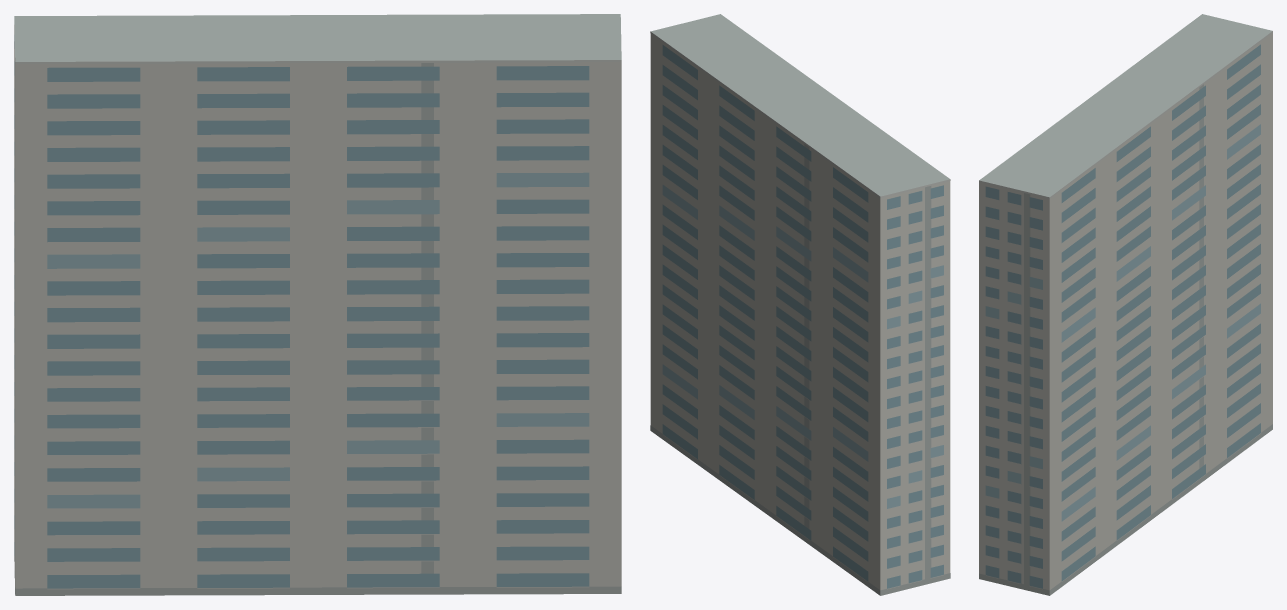
The model's file is residential-1bc73dc4-6123-48f5-a54a-faabca672b3d.glb.
3 renders of one model, left to right at view 1: azimuth 30°, elevation 25°; view 2: azimuth 150°, elevation 25°; view 3: azimuth 270°, elevation 25°, orthographic. The views are drawn at different scales.
Parts seen in each view (by area): view 1: residential-1bc73dc4-6123-48f5-a54a-faabca672b3d.tmp; view 2: residential-1bc73dc4-6123-48f5-a54a-faabca672b3d.tmp; view 3: residential-1bc73dc4-6123-48f5-a54a-faabca672b3d.tmp.
Part boxes in pixels (bbox=[...]): residential-1bc73dc4-6123-48f5-a54a-faabca672b3d.tmp: bbox=[14, 14, 621, 595]; residential-1bc73dc4-6123-48f5-a54a-faabca672b3d.tmp: bbox=[650, 14, 950, 595]; residential-1bc73dc4-6123-48f5-a54a-faabca672b3d.tmp: bbox=[979, 14, 1272, 595].
Size of the model in its own units: 54.27 by 55 by 36.76.
